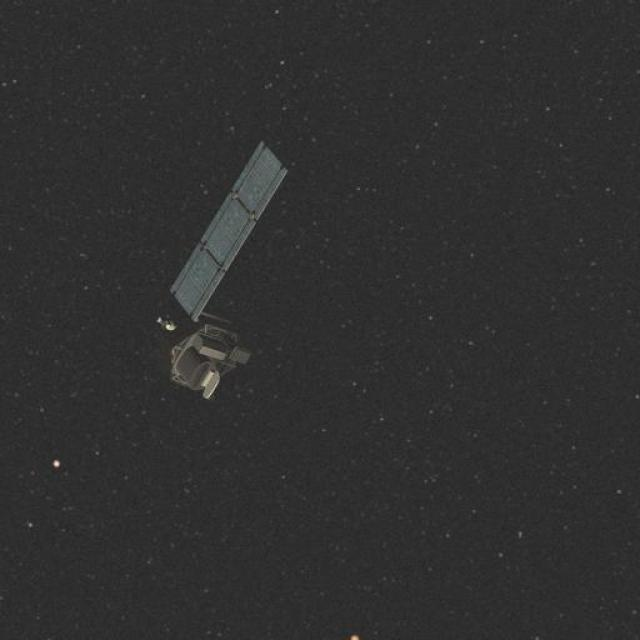earth_observation_sat_1: (131, 139, 300, 404)
